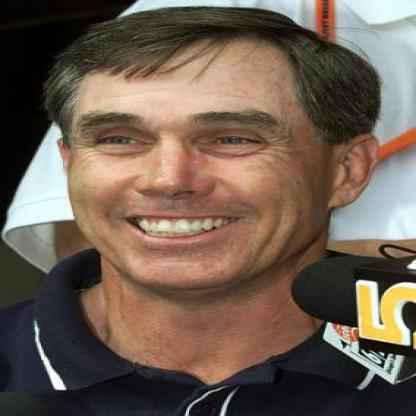face: (52, 8, 343, 292)
